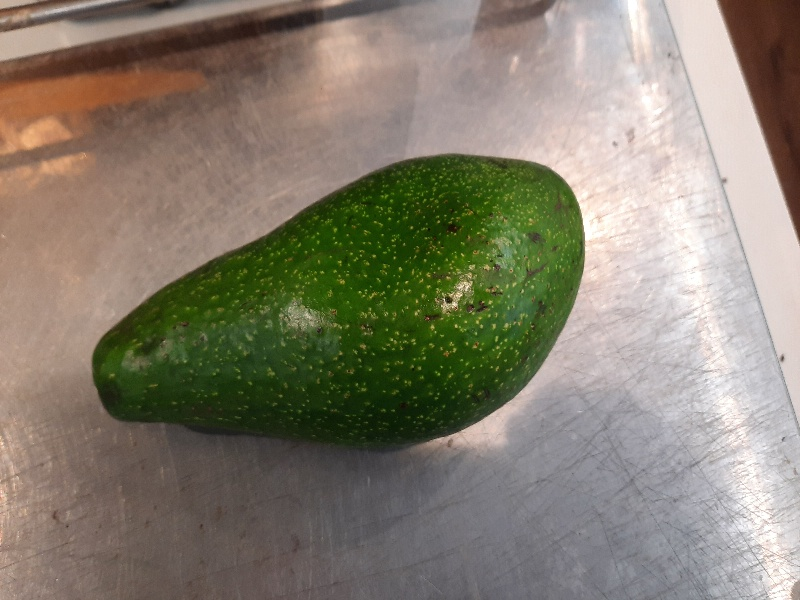fruit: (88, 152, 592, 450)
